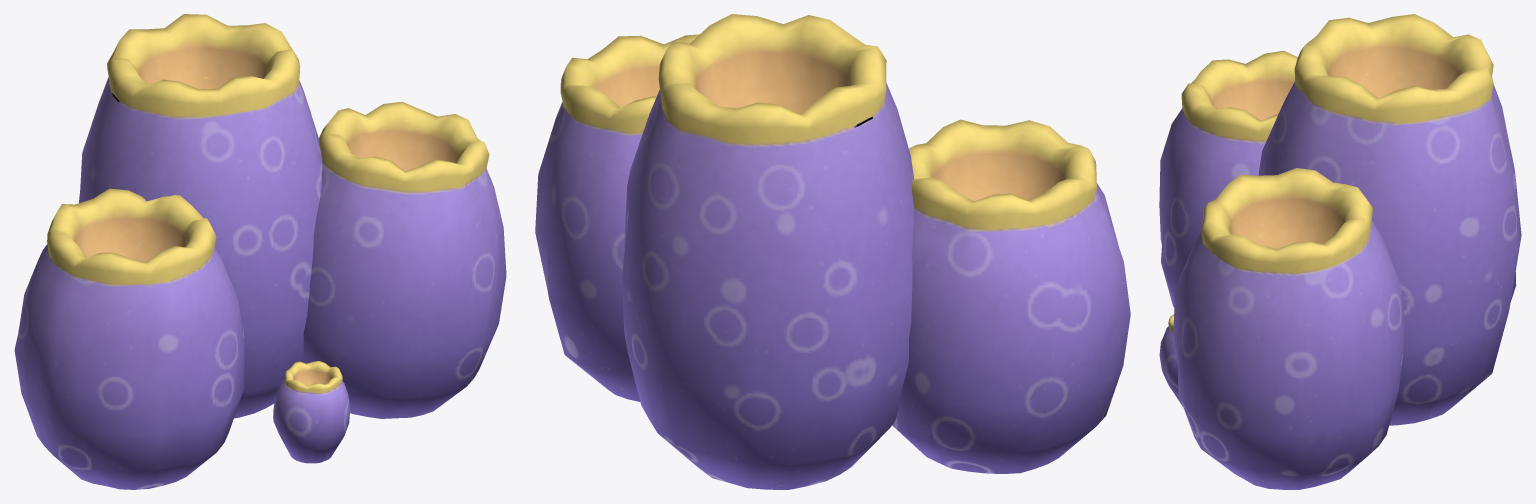
The model's file is BarrelSponge.fbx.
3 views of the same model, side by side, from view 1: azimuth 30°, elevation 25°; view 2: azimuth 150°, elevation 25°; view 3: azimuth 270°, elevation 25° (orthographic). The views are drawn at different scales.
Visible parts, largest first — view 1: BarrelSponge_S4; view 2: BarrelSponge_S4; view 3: BarrelSponge_S4.
Boxes of the visible parts, <box> form: BarrelSponge_S4: <box>14,14,506,489</box>; BarrelSponge_S4: <box>535,14,1130,489</box>; BarrelSponge_S4: <box>1159,14,1521,489</box>.
Bounding box in the file's own units: 0.6149 × 0.4375 × 0.4086.
